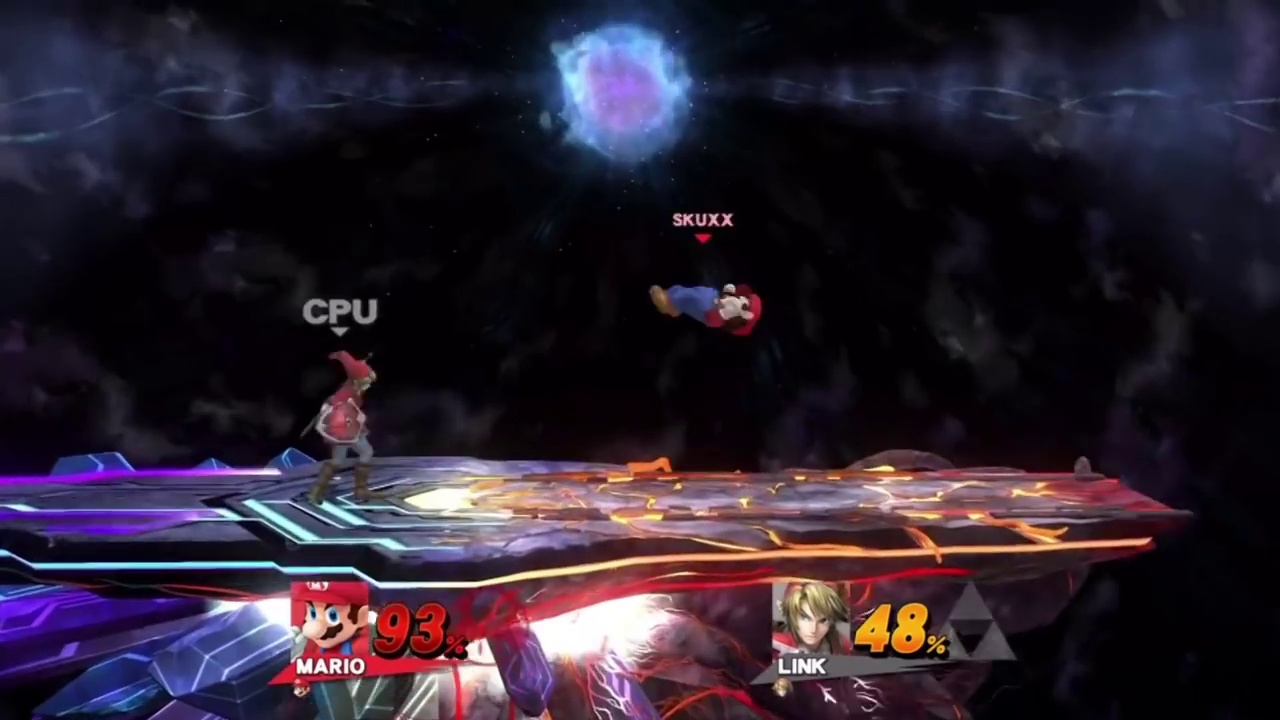Mario: (649, 281, 763, 338)
